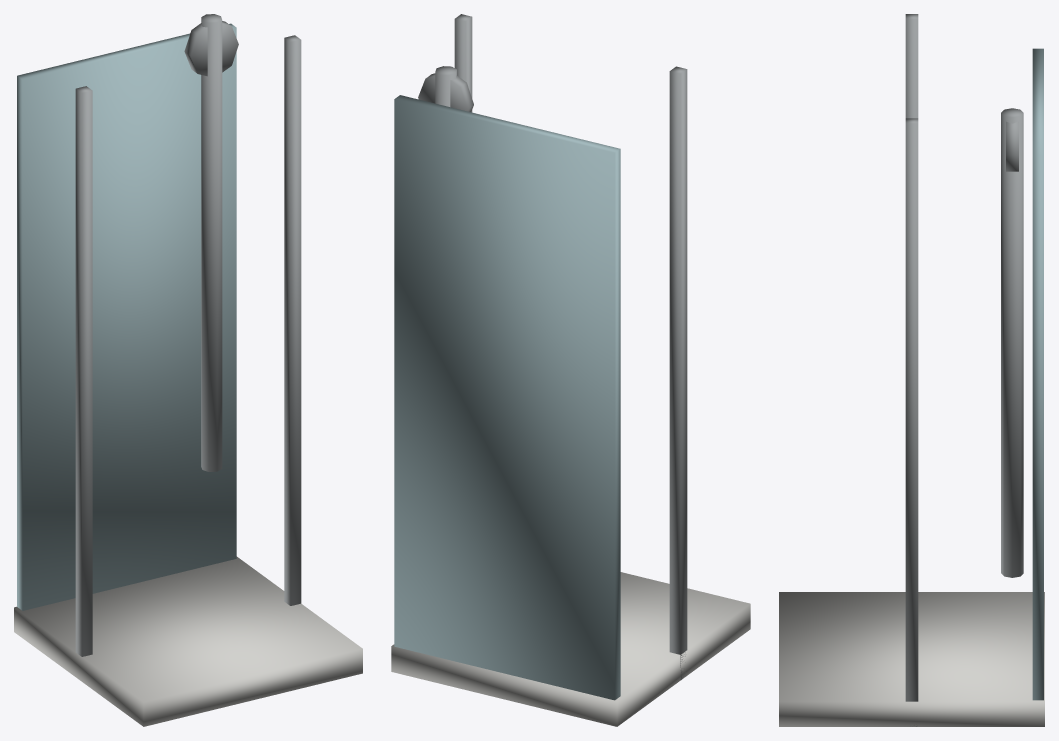
File: shower_stall__compact.glb
3 views of the same model, side by side, from view 1: azimuth 30°, elevation 25°; view 2: azimuth 150°, elevation 25°; view 3: azimuth 270°, elevation 25° (orthographic). The views are drawn at different scales.
Parts seen in each view (by area): view 1: world; view 2: world; view 3: world.
Boxes of the visible parts, x1,y1,x2,y2 form: world: (14,14,362,726); world: (391,14,750,726); world: (779,14,1044,726).
Bounding box in the file's own units: 0.6888 × 1.77 × 0.7052.
